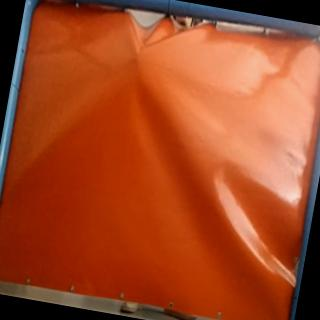Hit-hRxx: (131, 46, 149, 60)
